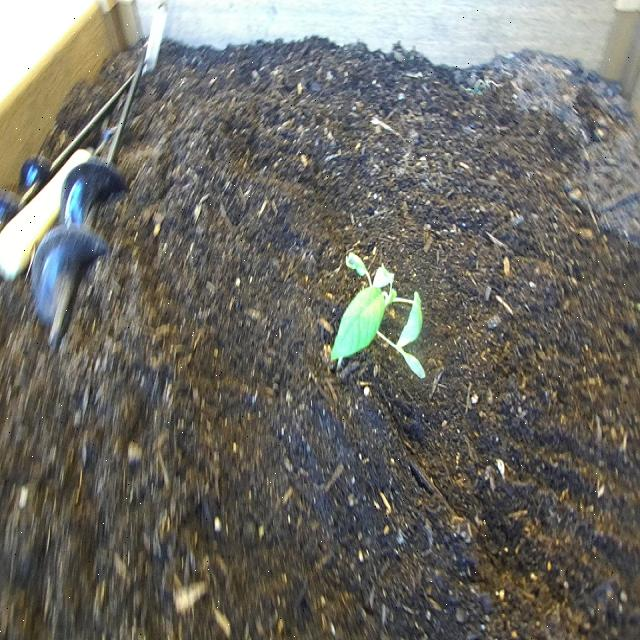Healthy: (319, 220, 439, 435)
